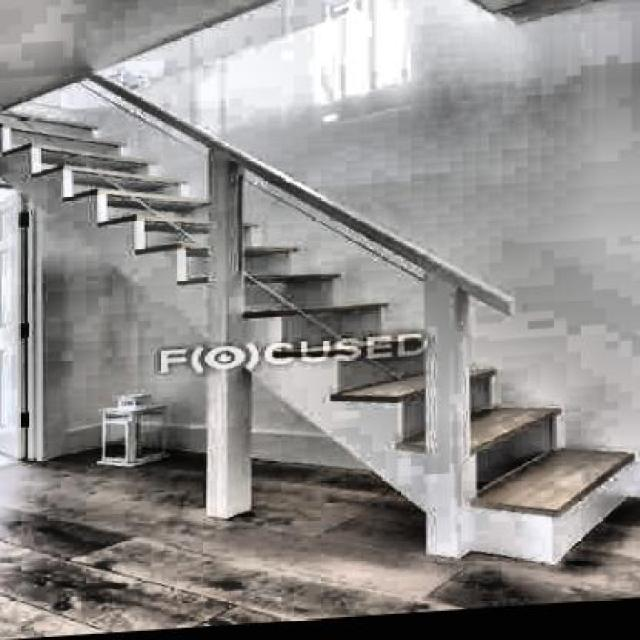stair: (54, 99, 638, 508)
